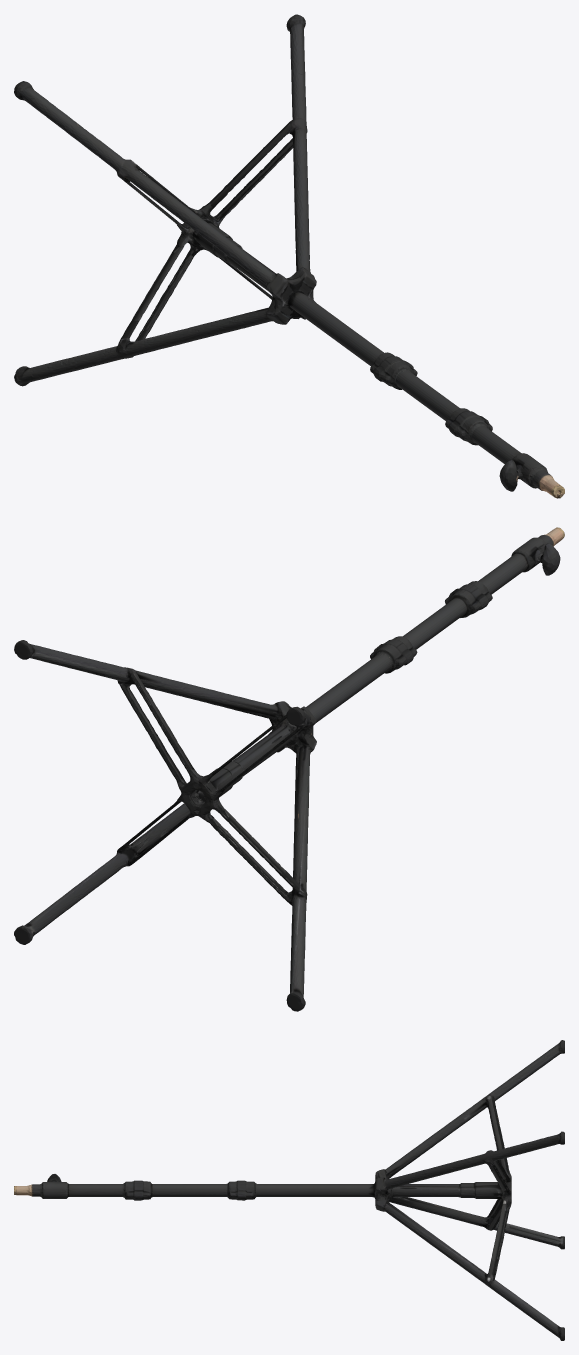
3 renders of one model, top to bottom at view 1: azimuth 30°, elevation 25°; view 2: azimuth 150°, elevation 25°; view 3: azimuth 270°, elevation 25°, orthographic. The views are drawn at different scales.
Visible parts, largest first — view 1: Meshy_AI_Tripod_Stand_0113040432_texture; view 2: Meshy_AI_Tripod_Stand_0113040432_texture; view 3: Meshy_AI_Tripod_Stand_0113040432_texture.
Part boxes in pixels (bbox=[...]): Meshy_AI_Tripod_Stand_0113040432_texture: bbox=[14, 14, 564, 498]; Meshy_AI_Tripod_Stand_0113040432_texture: bbox=[14, 527, 564, 1011]; Meshy_AI_Tripod_Stand_0113040432_texture: bbox=[14, 1040, 564, 1340].
Size of the model in its own units: 0.7971 by 0.7969 by 1.91.
Materials: 1 (1 with a texture image).
